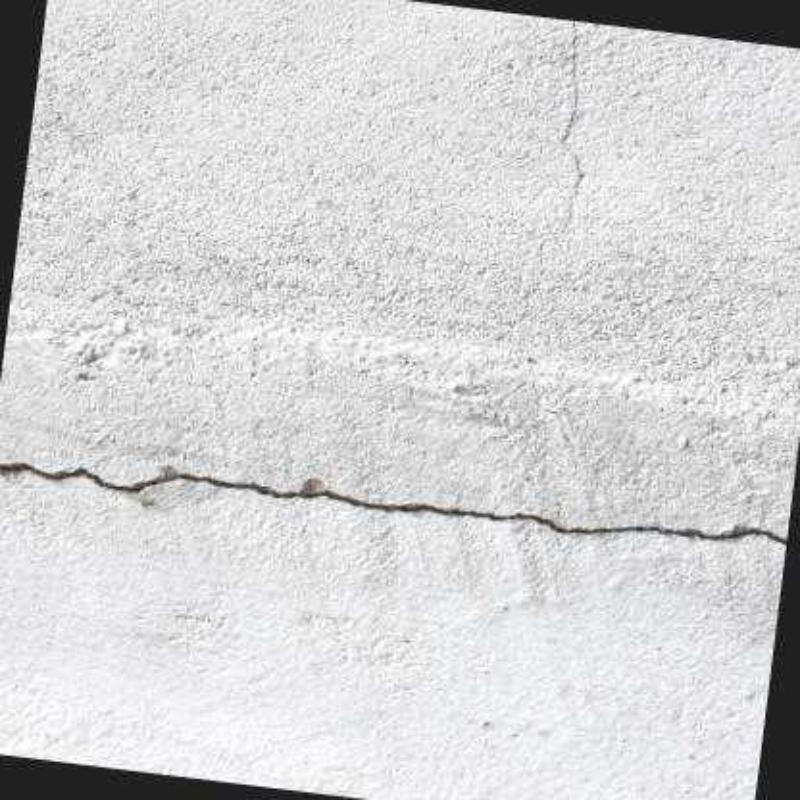crack: (0, 458, 785, 545), (559, 18, 588, 198)
